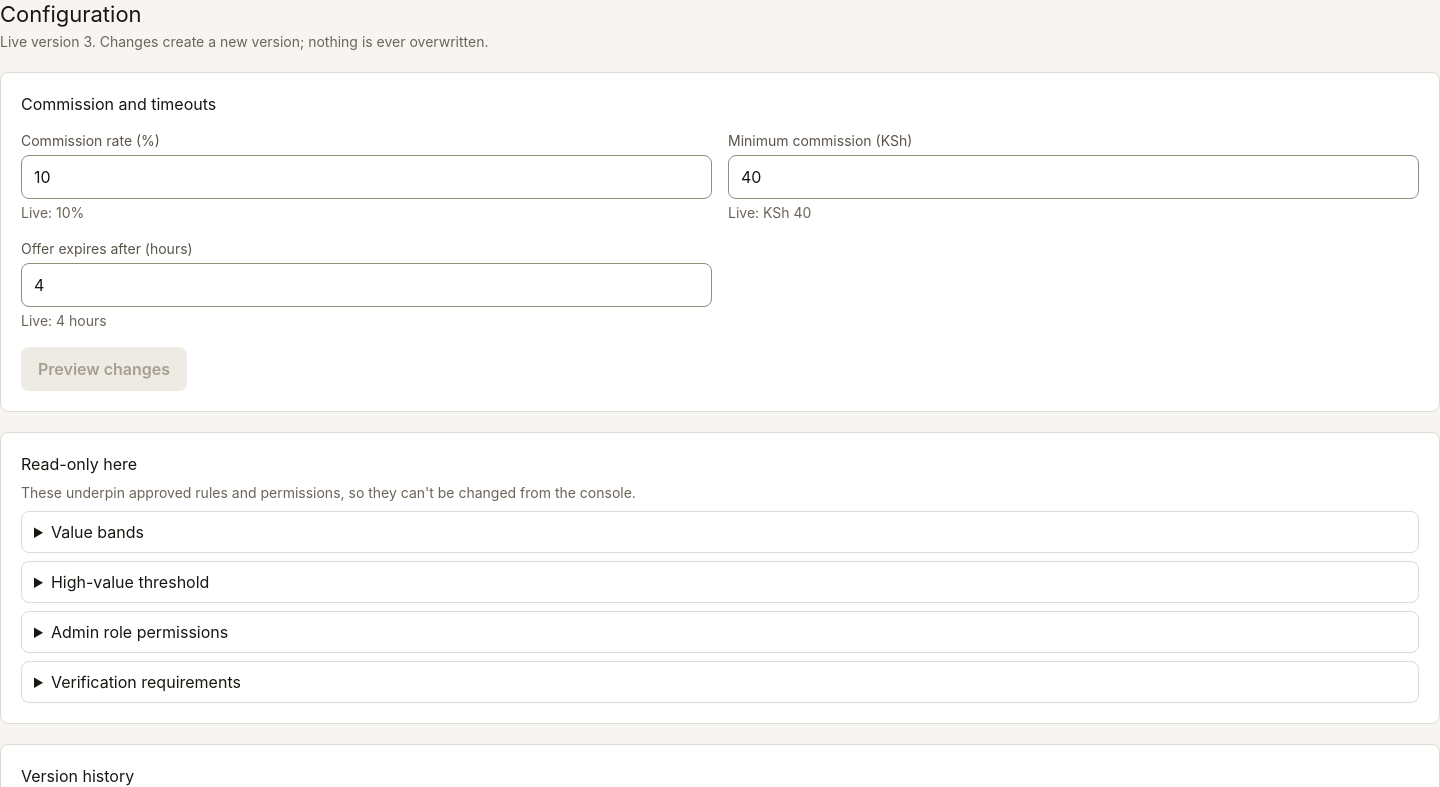
Configuration › previews a change in people units and sends config units
expect the field labelled "Minimum commission (KSh)" holds "40": met, box 728,155 -> 1419,199
expect the button "Preview changes" is disabled: met, box 21,347 -> 187,391
Replace the text in the field labelled "Commission rate (%)" with "8" at [366, 177], box 21,155 -> 712,199
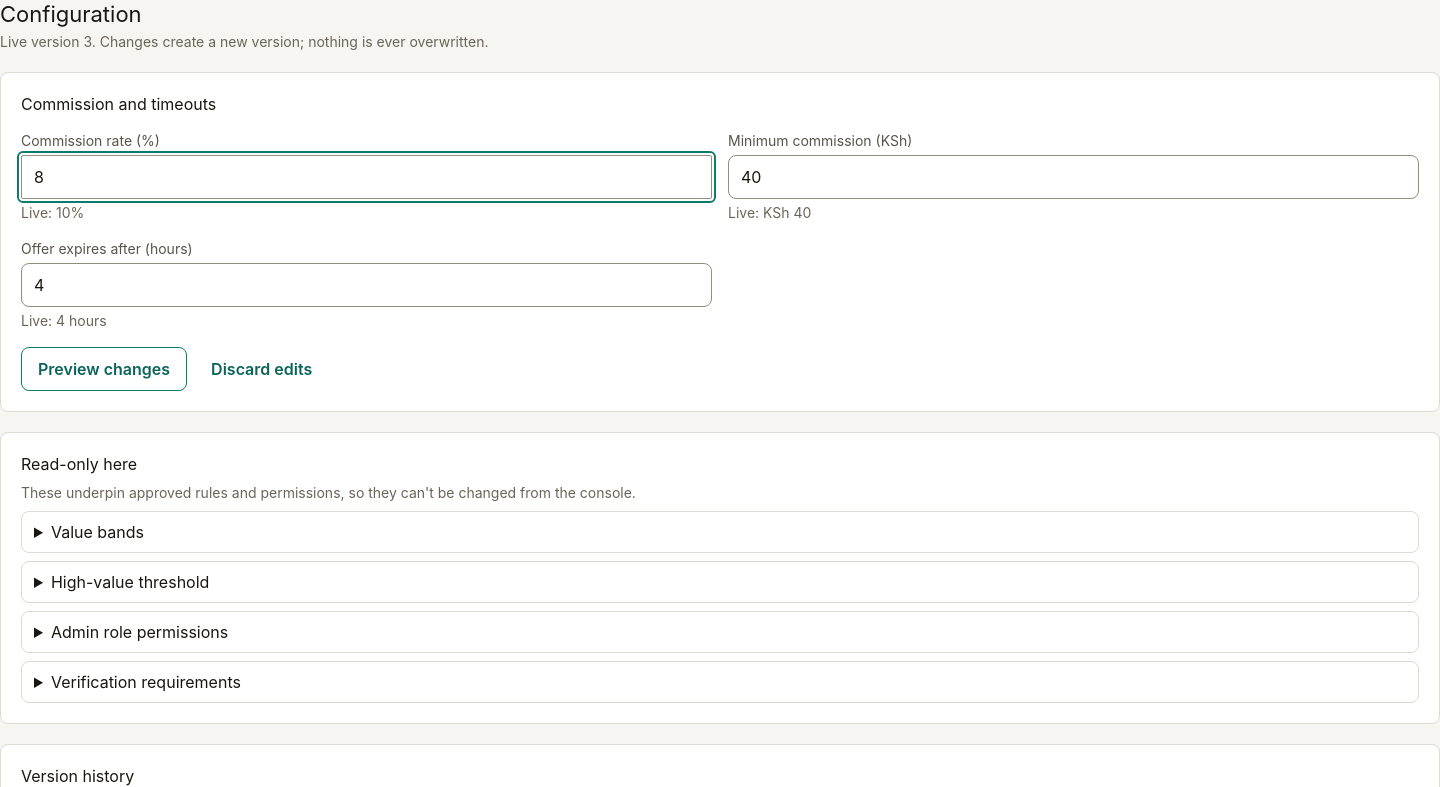
Click the button "Preview changes" at [104, 369], box 21,347 -> 187,391
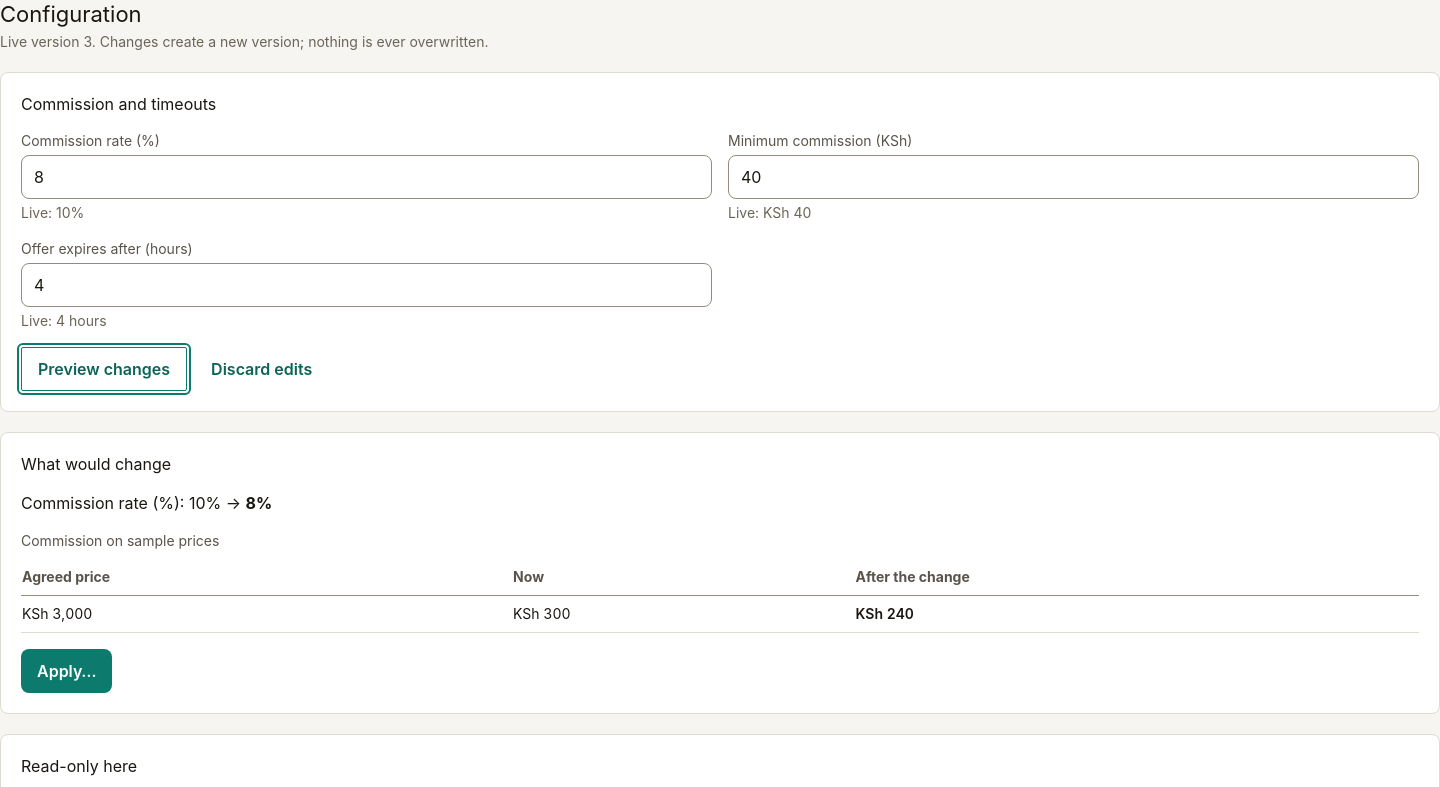
expect the text "KSh 240" is shown: met, box 855,596 -> 1419,632
Click the button "Apply…" at [67, 671], box 21,649 -> 112,693
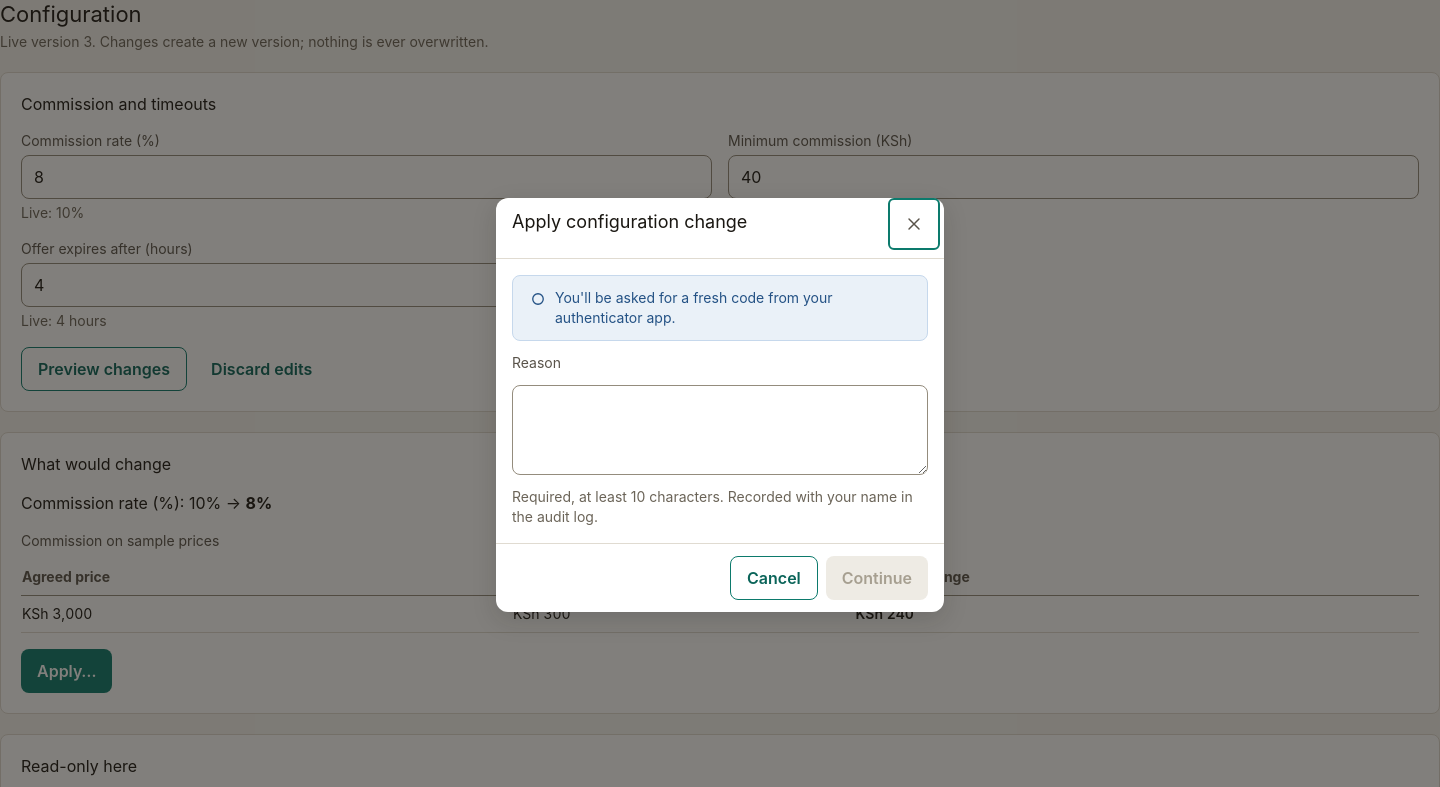
Type "Pilot test of a lower rate" into the text box labelled "Reason" at [720, 430], box 512,385 -> 928,475
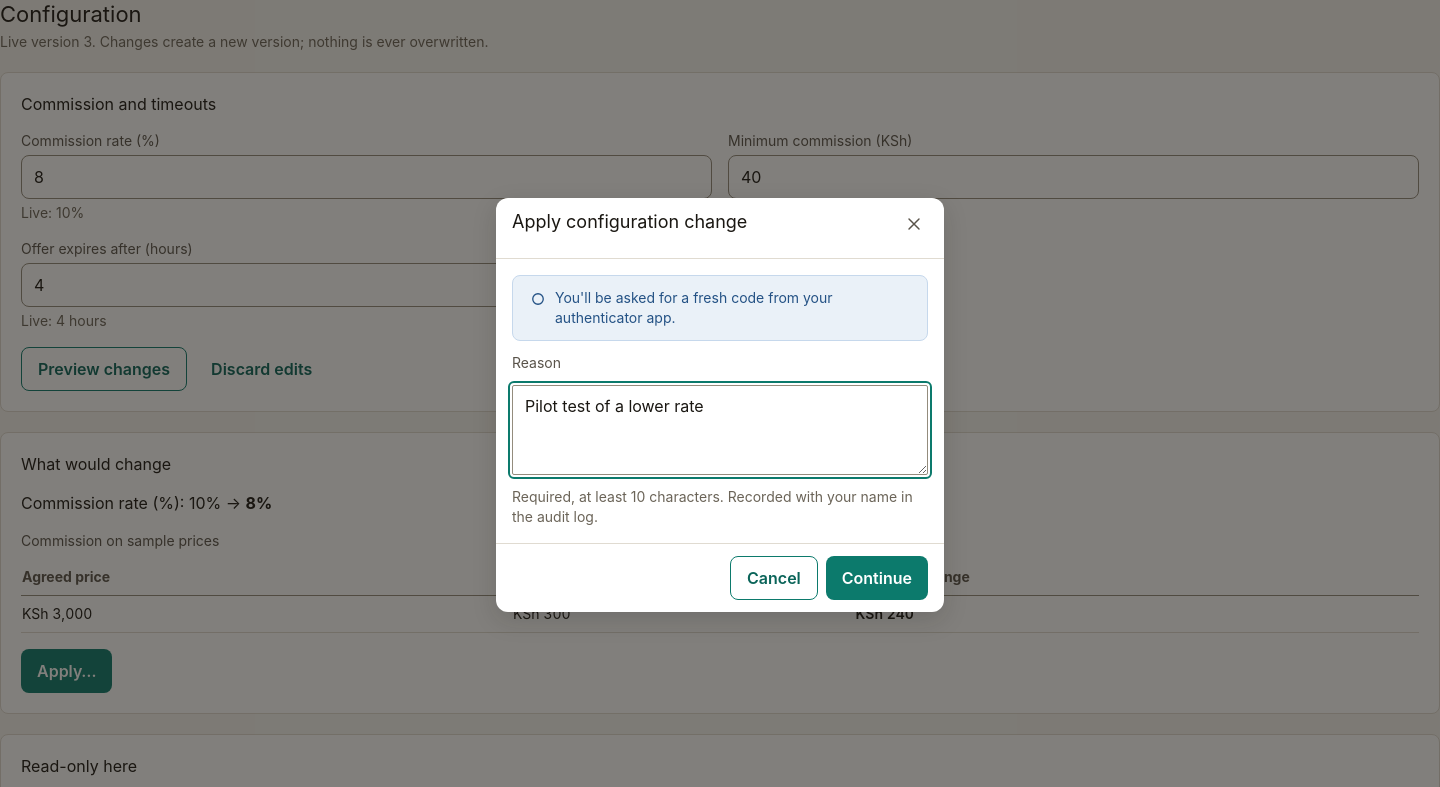
Click the button "Continue" at [877, 578], box 826,556 -> 928,600
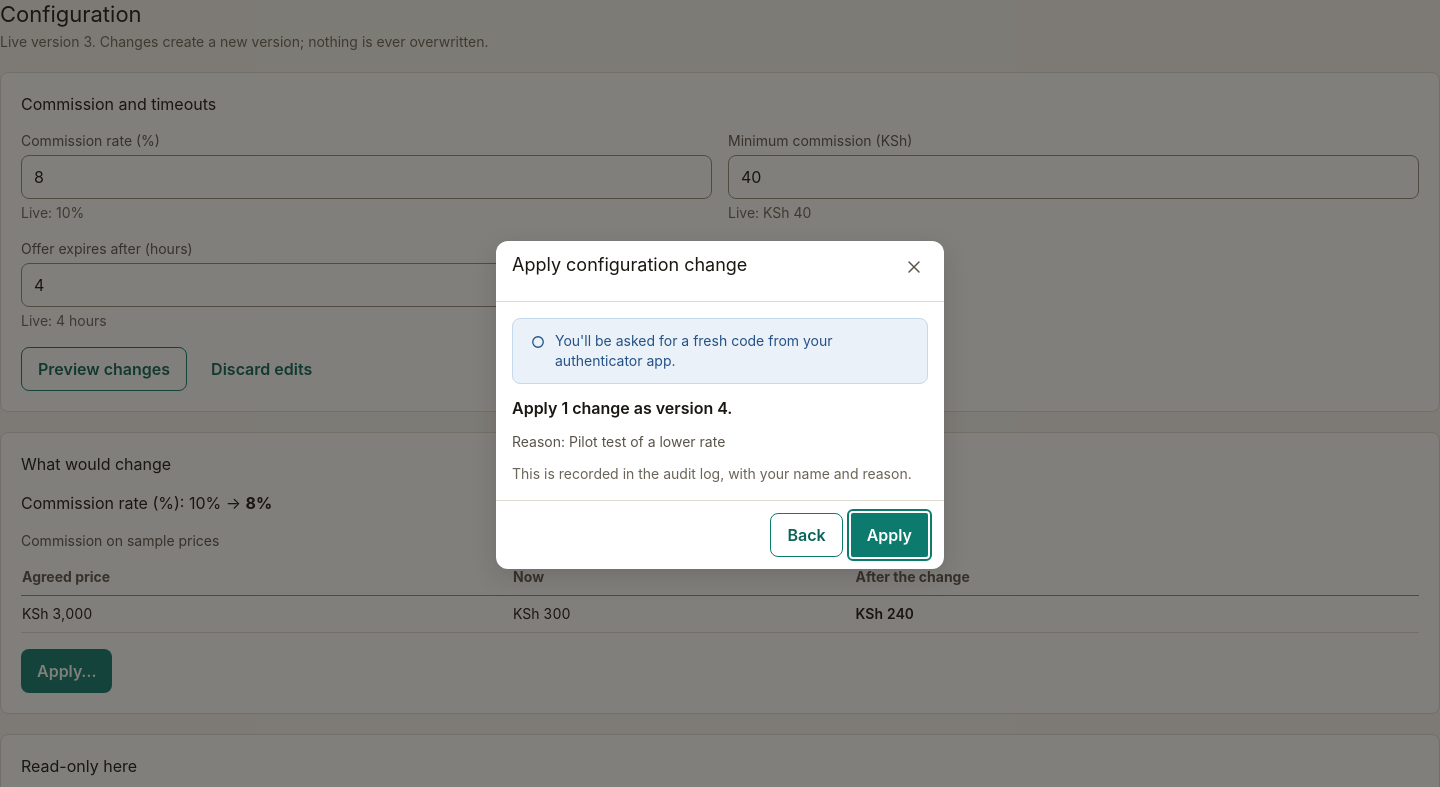
Click the button "Apply" at [889, 535], box 851,513 -> 928,557
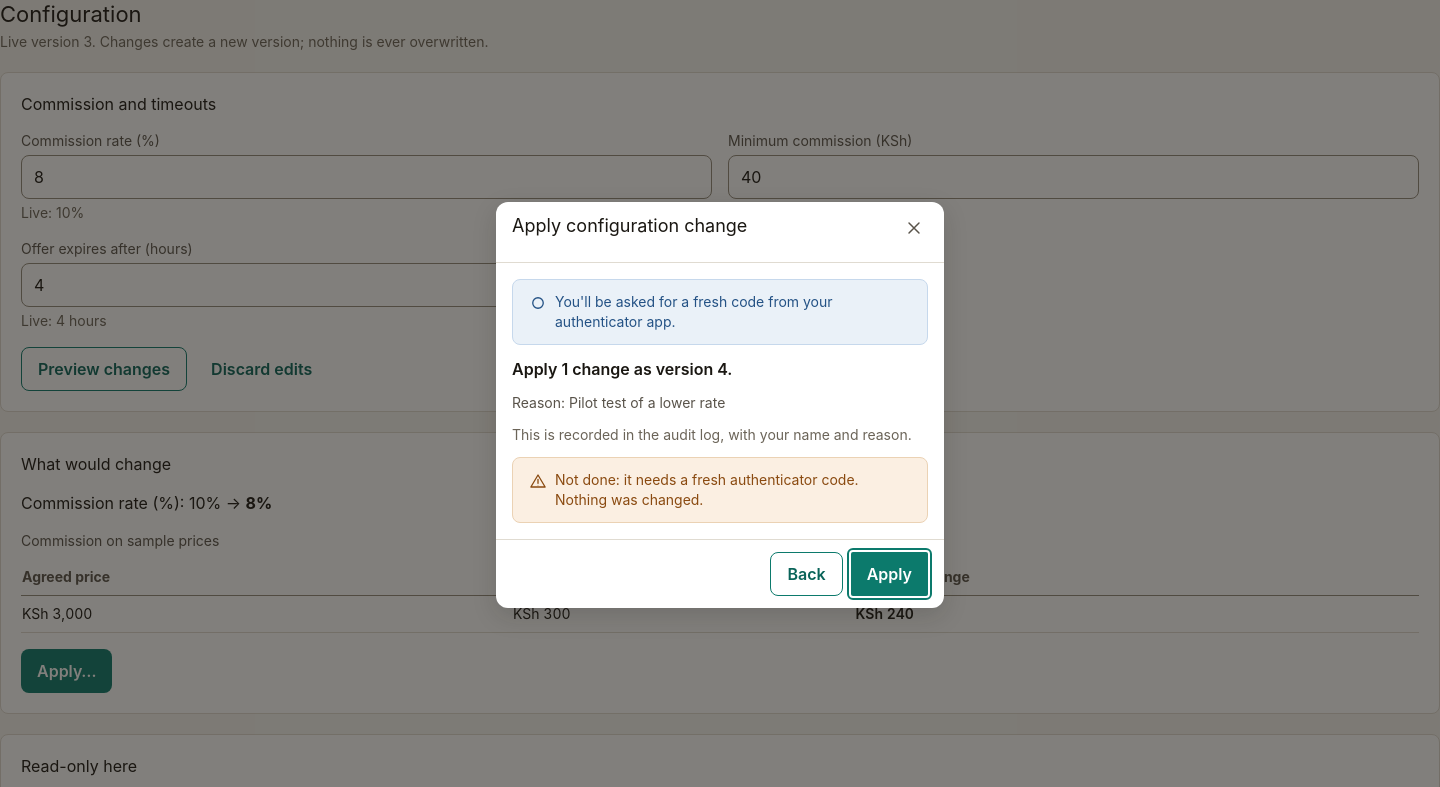
expect the text "needs a fresh authenticator code" is shown: met, box 555,471 -> 859,508
